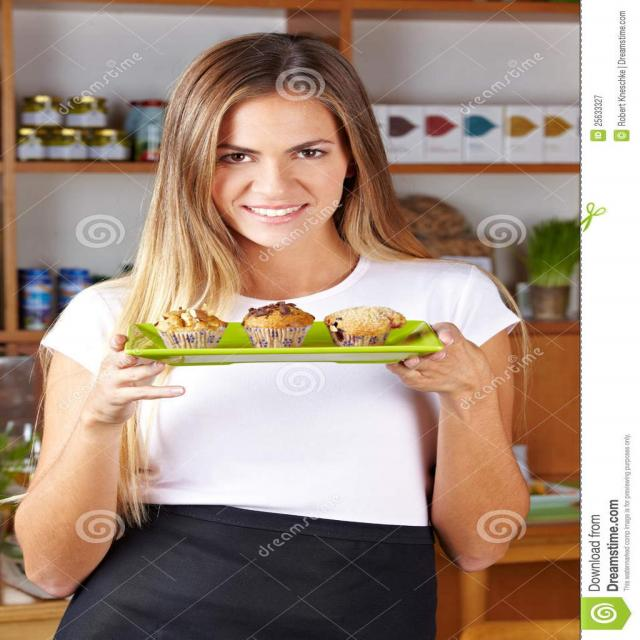nomask: (192, 91, 350, 246)
